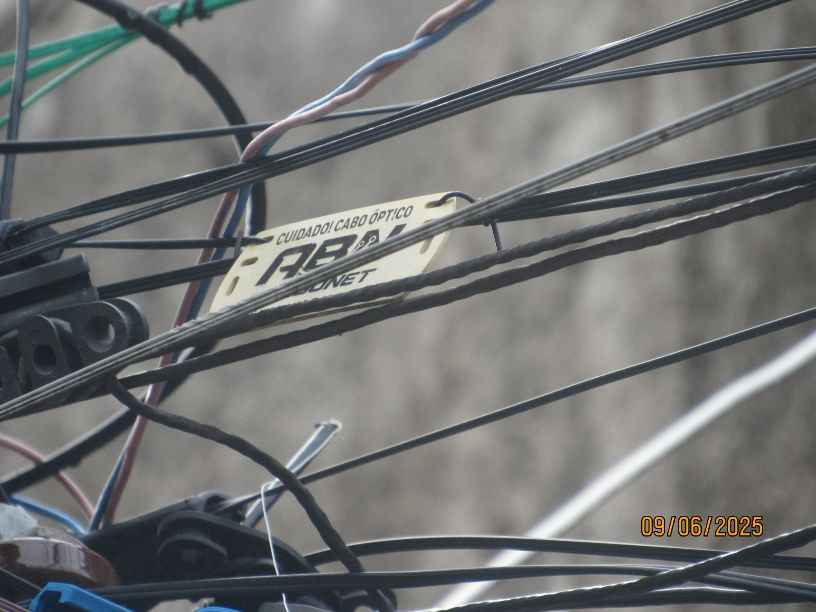fibra_optica: (208, 189, 470, 315)
